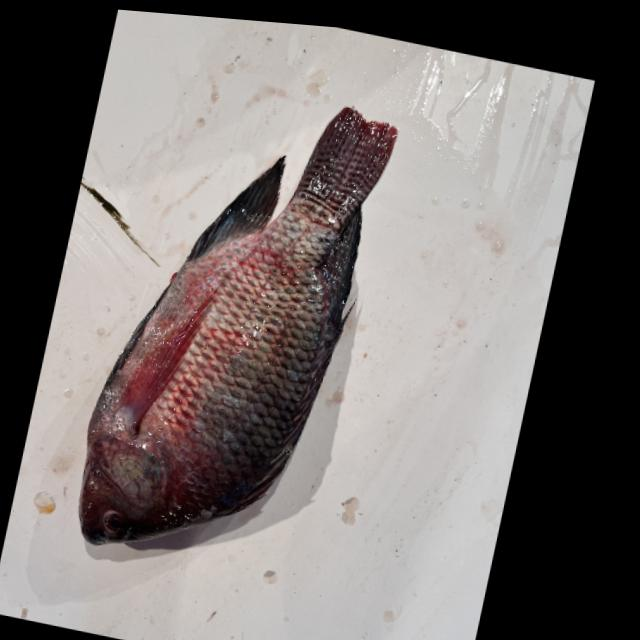Tilapia: (60, 63, 407, 593)
